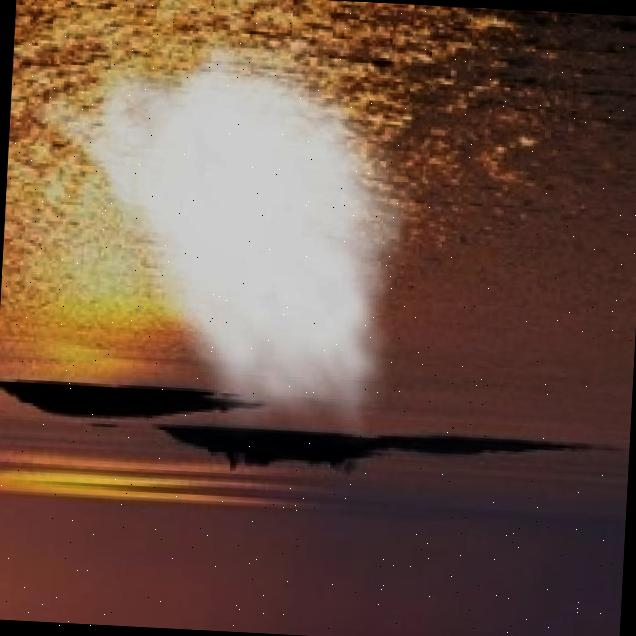smoke: (3, 13, 427, 451)
